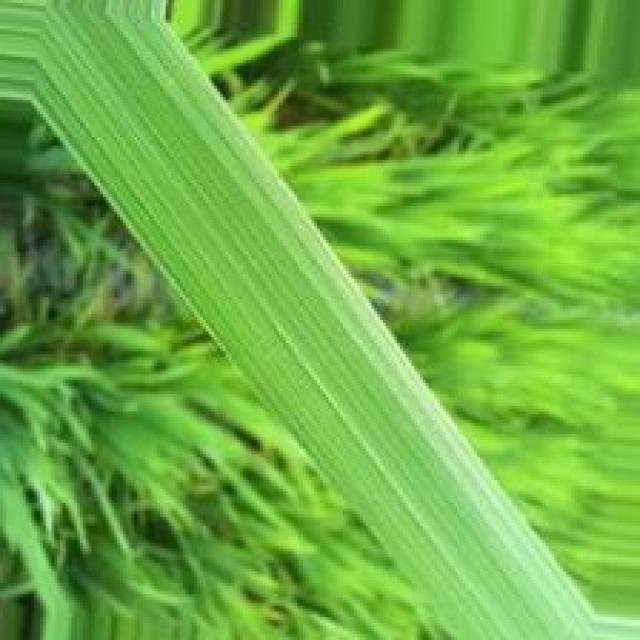HealthyLeaf: (5, 0, 611, 640)
